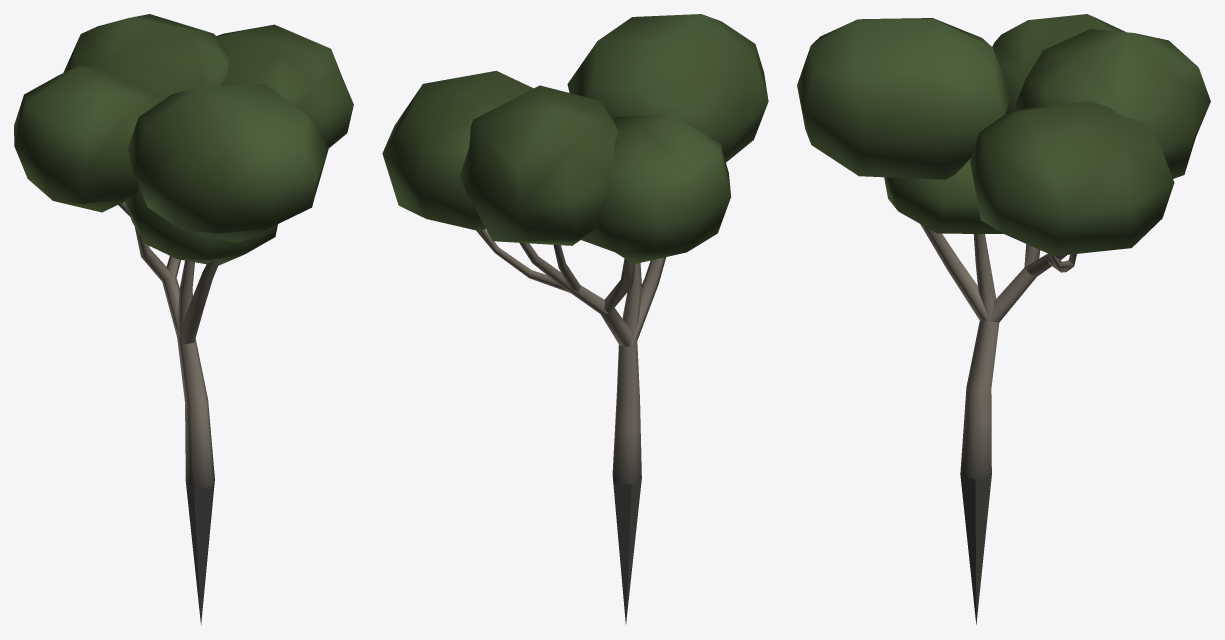
File: trees-broadleaf-trees-birch-tree_v3.glb
3 renders of one model, left to right at view 1: azimuth 30°, elevation 25°; view 2: azimuth 150°, elevation 25°; view 3: azimuth 270°, elevation 25°, orthographic. The views are drawn at different scales.
Visible parts, largest first — view 1: Birch Tree_v3; view 2: Birch Tree_v3; view 3: Birch Tree_v3.
Boxes of the visible parts, left/top/right/bottom form: Birch Tree_v3: left=14, top=14, right=353, bottom=625; Birch Tree_v3: left=382, top=14, right=768, bottom=624; Birch Tree_v3: left=797, top=14, right=1210, bottom=624.
Size of the model in its own units: 8.86 by 15 by 9.42.
